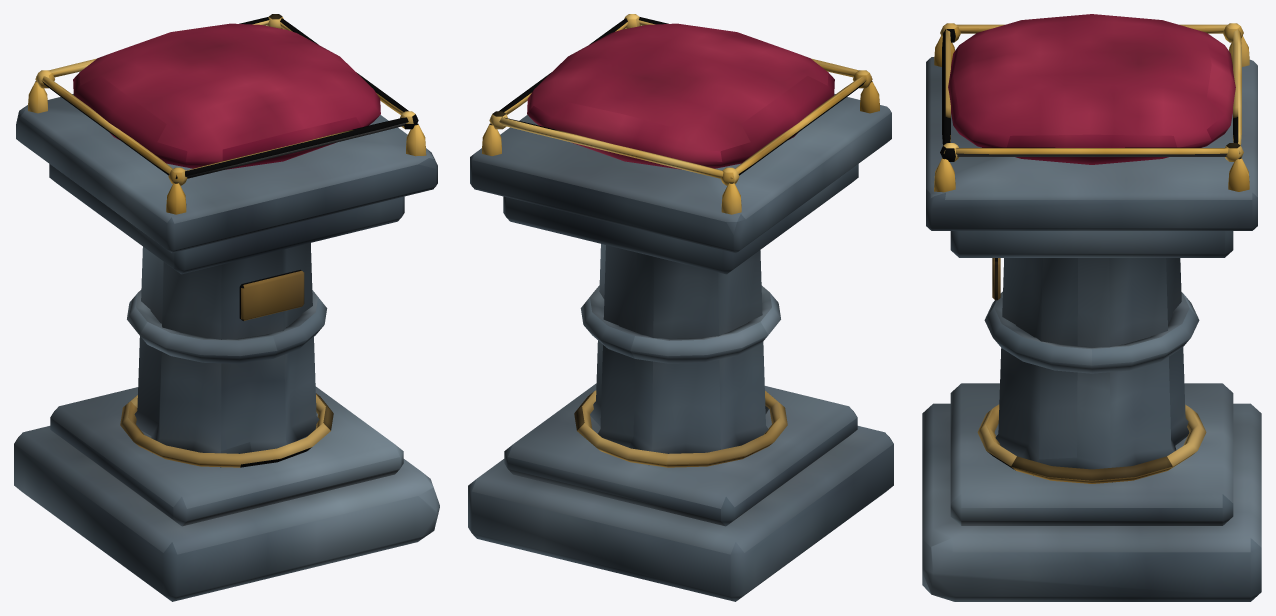
Rendered from Pedestal.fbx.
3 views of the same model, side by side, from view 1: azimuth 30°, elevation 25°; view 2: azimuth 150°, elevation 25°; view 3: azimuth 270°, elevation 25° (orthographic). The views are drawn at different scales.
Visible parts, largest first — view 1: Pedestal; view 2: Pedestal; view 3: Pedestal.
Boxes of the visible parts, box(x1,y1,x2,y2) form: Pedestal: box(14, 14, 439, 601); Pedestal: box(468, 14, 893, 601); Pedestal: box(922, 14, 1261, 601).
Size of the model in its own units: 0.48 by 0.75 by 0.48.
